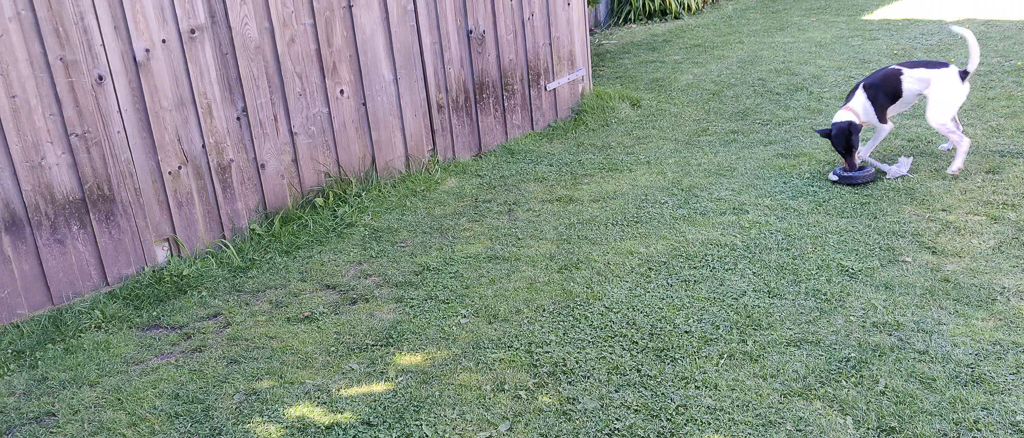Dog: (805, 23, 989, 183)
